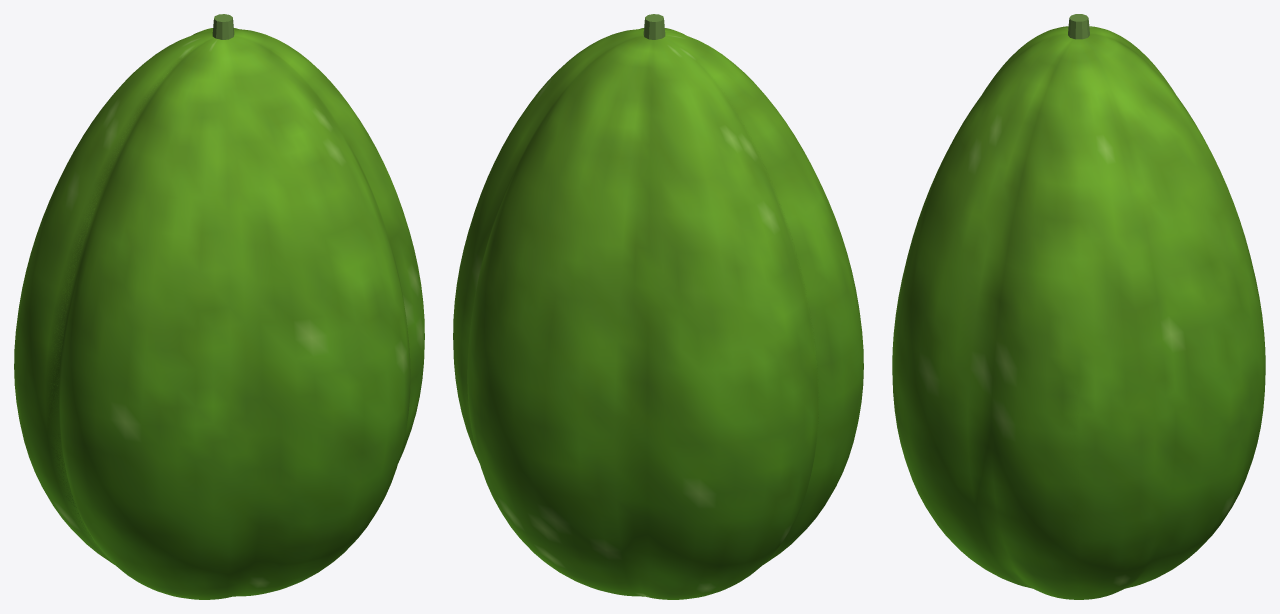
Rendered from chouchou.glb.
3 views of the same model, side by side, from view 1: azimuth 30°, elevation 25°; view 2: azimuth 150°, elevation 25°; view 3: azimuth 270°, elevation 25° (orthographic).
Visible parts, largest first — view 1: entier_peau, moitie_B_peau, moitie_A_peau; view 2: entier_peau, moitie_A_peau, moitie_B_peau; view 3: entier_peau, moitie_B_peau, moitie_A_peau, entier_extra0.
Boxes of the visible parts, x1,y1,x2,y2 form: entier_peau: (14, 28, 424, 599); moitie_B_peau: (59, 32, 424, 599); moitie_A_peau: (14, 29, 274, 561); entier_peau: (453, 28, 863, 599); moitie_A_peau: (453, 33, 818, 599); moitie_B_peau: (612, 29, 863, 558); entier_peau: (892, 26, 1265, 599); moitie_B_peau: (892, 26, 1078, 599); moitie_A_peau: (1079, 27, 1265, 599); entier_extra0: (1068, 14, 1089, 39).
Size of the model in its own units: 1.38 by 2.06 by 1.24.
